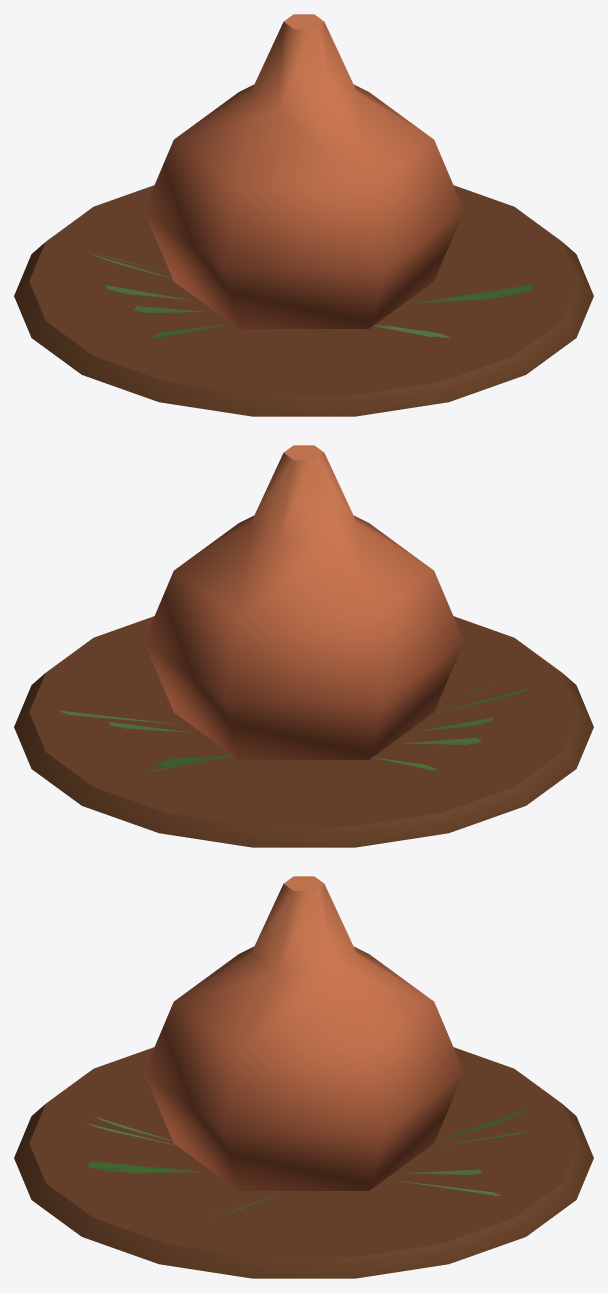
File: onion.glb
3 views of the same model, one above another, from view 1: azimuth 30°, elevation 25°; view 2: azimuth 150°, elevation 25°; view 3: azimuth 270°, elevation 25° (orthographic).
Visible parts, largest first — view 1: crop-onion-giant, crop-onion-giant-2; view 2: crop-onion-giant, crop-onion-giant-2; view 3: crop-onion-giant, crop-onion-giant-2.
Part boxes in pixels (box(x1,y1,x2,y2)): crop-onion-giant: box(23, 14, 585, 404); crop-onion-giant-2: box(14, 247, 593, 416); crop-onion-giant: box(22, 445, 584, 835); crop-onion-giant-2: box(14, 678, 593, 847); crop-onion-giant: box(22, 876, 585, 1266); crop-onion-giant-2: box(14, 1108, 593, 1278).
Size of the model in its own units: 5.61 by 3.2 by 5.7.
